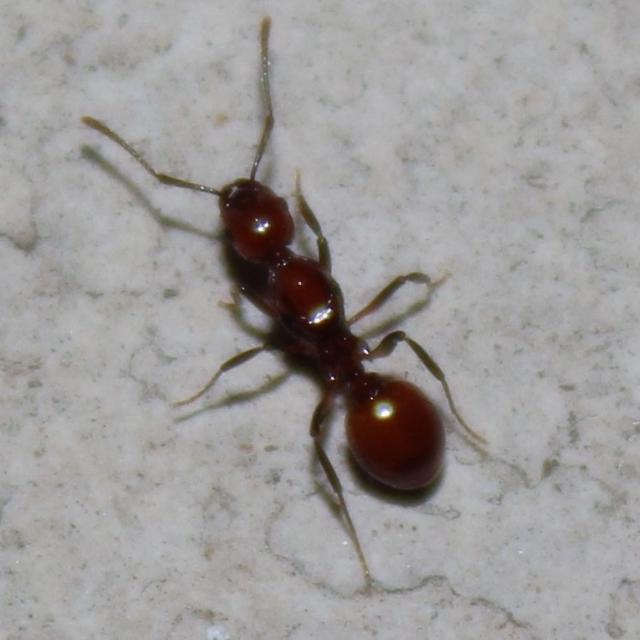Apheanogaster: (164, 118, 482, 518)
